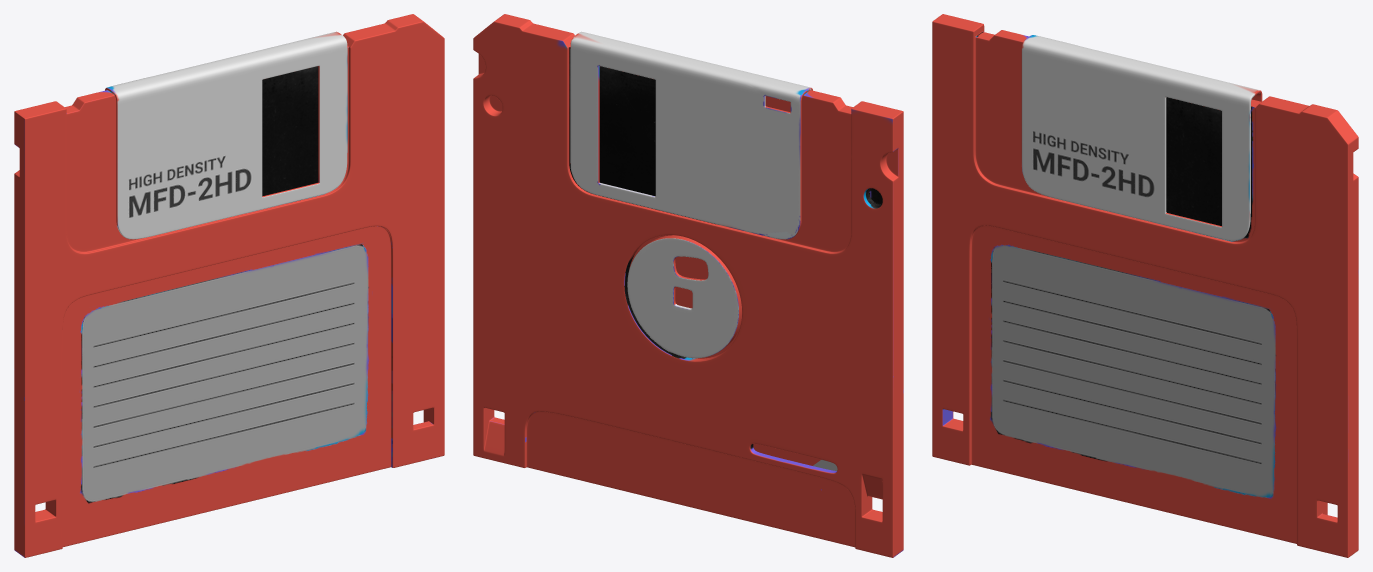
Rendered from floppy_red.glb.
The picture shows the model from 3 angles, left to right: view 1: azimuth 30°, elevation 25°; view 2: azimuth 150°, elevation 25°; view 3: azimuth 330°, elevation 25°; orthographic projection.
Visible parts, largest first — view 1: Floppy_0; view 2: Floppy_0; view 3: Floppy_0.
Part boxes in pixels (bbox=[...]): Floppy_0: bbox=[14, 14, 444, 557]; Floppy_0: bbox=[473, 14, 903, 557]; Floppy_0: bbox=[932, 14, 1358, 557].
Size of the model in its own units: 0.2182 by 0.2194 by 0.0117.
Materials: 1 (1 with a texture image).
